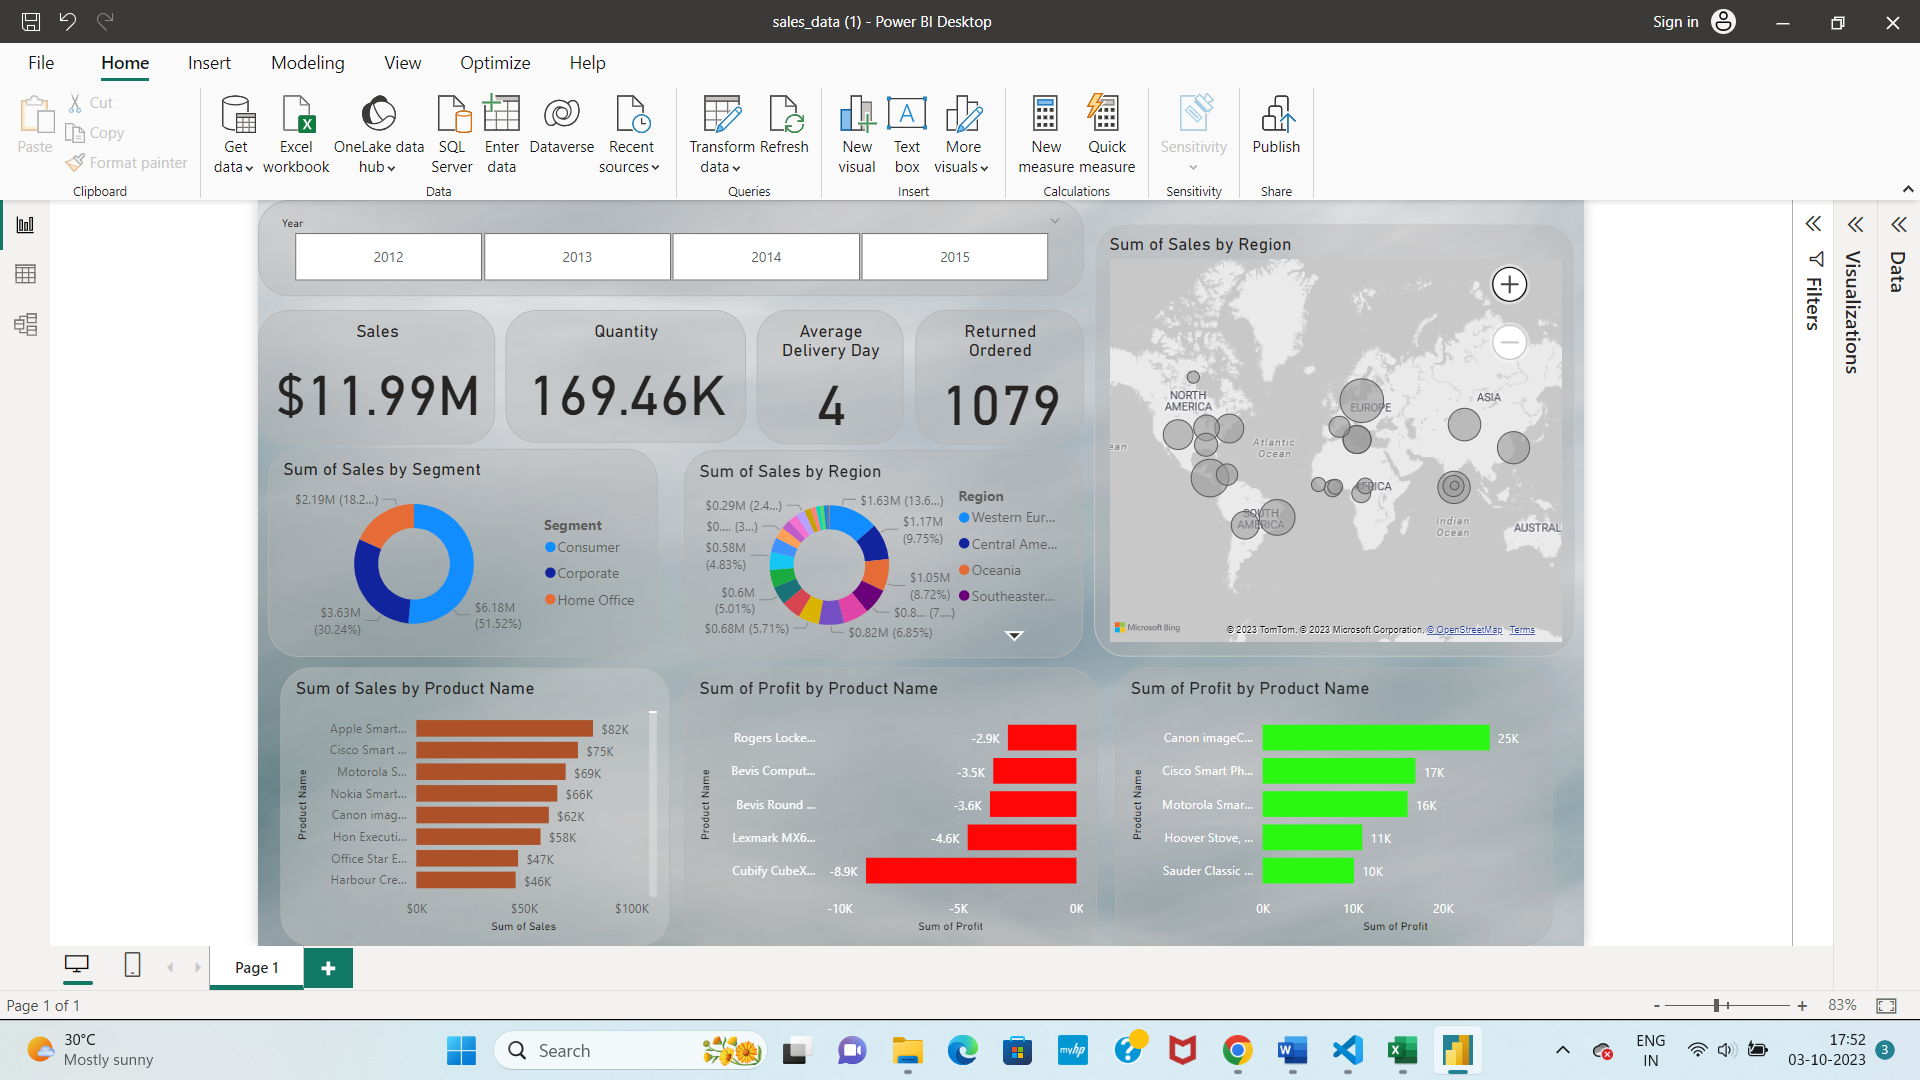

The dashboard page shown, as its layout file describes it:
{"tool":"powerbi","page":{"name":"Page 1","canvas":[1280,720],"ordinal":0},"visuals":[{"type":"card","title":" Sales","fields":{"Values":["Orders.Sales"]},"box":[0,106.4,229.1,129.6],"z":0},{"type":"card","title":"Quantity","fields":{"Values":["Orders.Quantity"]},"box":[238.7,106.4,231.8,128.2],"z":1000},{"type":"card","title":"Average Delivery Day","fields":{"Values":["Orders.Delivery Days"]},"box":[481.4,106.4,141.8,129.6],"z":2000},{"type":"slicer","title":"Year","fields":{"Values":["Orders.Year"]},"box":[0,0,796.4,92.7],"z":2001},{"type":"card","title":"Returned Ordered","fields":{"Values":["Returns.Return Orders"]},"box":[634.1,106.4,162.3,129.6],"z":2002},{"type":"map","fields":{"Size":["Orders.Sales"],"Category":["Orders.Region"]},"box":[807.3,23.2,463.7,417.3],"z":2003},{"type":"clusteredBarChart","fields":{"Category":["Orders.Product Name"],"Y":["Orders.Profit"]},"box":[827.8,451.4,421.4,268.7],"z":2004},{"type":"clusteredBarChart","fields":{"Category":["Orders.Product Name"],"Y":["Orders.Profit"]},"box":[411.9,451.4,398.2,268.7],"z":2005},{"type":"donutChart","fields":{"Y":["Orders.Sales"],"Category":["Orders.Segment"]},"box":[9.5,240,376.4,200.5],"z":2006},{"type":"donutChart","fields":{"Y":["Orders.Sales"],"Category":["Orders.Region"]},"box":[411.9,241.4,384.6,200.5],"z":2007},{"type":"barChart","fields":{"Category":["Orders.Product Name"],"Y":["Orders.Sales"]},"box":[21.8,451.4,376.4,268.7],"z":2008}]}

Visuals, with their boxes on the page's 1280x720 design canvas (x1, y1, x2, y2). These are canvas units, not pixel positions in the 1920x1080 screenshot, which may show the page scaled, cropped or inside an application window:
" Sales" card: left=0, top=106, right=229, bottom=236
"Quantity" card: left=239, top=106, right=470, bottom=235
"Average Delivery Day" card: left=481, top=106, right=623, bottom=236
"Year" slicer: left=0, top=0, right=796, bottom=93
"Returned Ordered" card: left=634, top=106, right=796, bottom=236
map - Orders.Sales x Orders.Region: left=807, top=23, right=1271, bottom=440
clusteredBarChart - Orders.Product Name x Orders.Profit: left=828, top=451, right=1249, bottom=720
clusteredBarChart - Orders.Product Name x Orders.Profit: left=412, top=451, right=810, bottom=720
donutChart - Orders.Sales x Orders.Segment: left=10, top=240, right=386, bottom=440
donutChart - Orders.Sales x Orders.Region: left=412, top=241, right=796, bottom=442
barChart - Orders.Product Name x Orders.Sales: left=22, top=451, right=398, bottom=720
